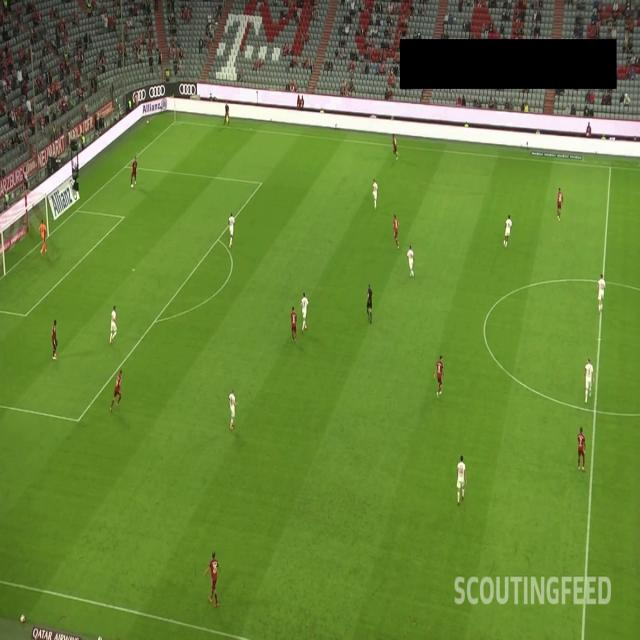ball: (129, 180, 136, 190)
player: (208, 548, 220, 611), (456, 452, 468, 508), (583, 354, 596, 402), (576, 426, 589, 472), (298, 292, 311, 334), (50, 314, 60, 364), (434, 352, 444, 400), (112, 370, 124, 407), (597, 270, 606, 317), (39, 217, 50, 253), (554, 181, 564, 220), (229, 387, 238, 429), (288, 302, 298, 339), (109, 306, 118, 346), (371, 174, 381, 210), (227, 209, 235, 249), (406, 244, 415, 278), (392, 212, 400, 249), (503, 212, 511, 247), (131, 156, 138, 184), (391, 136, 398, 158)
